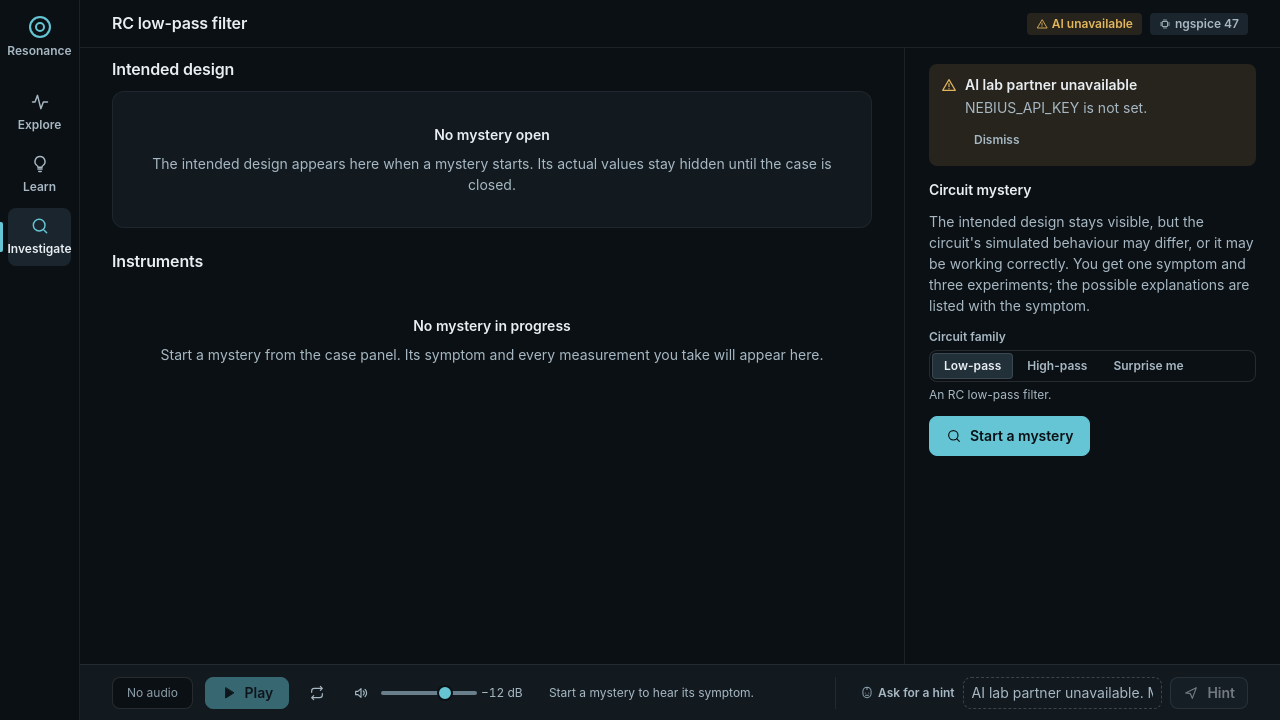
it: Investigate: family choice and the Guide-me prediction step › starts the chosen family (null for Surprise me) and compares a skippable prediction with the evidence
Check: the radio button labelled "Low-pass" is checked, box [932,353,1013,379]
What coordinates should you click on to do the following:
click the radio button labelled "Surprise me"
I would click on:
 (1149, 365)
Its box is [1114,358,1184,373].
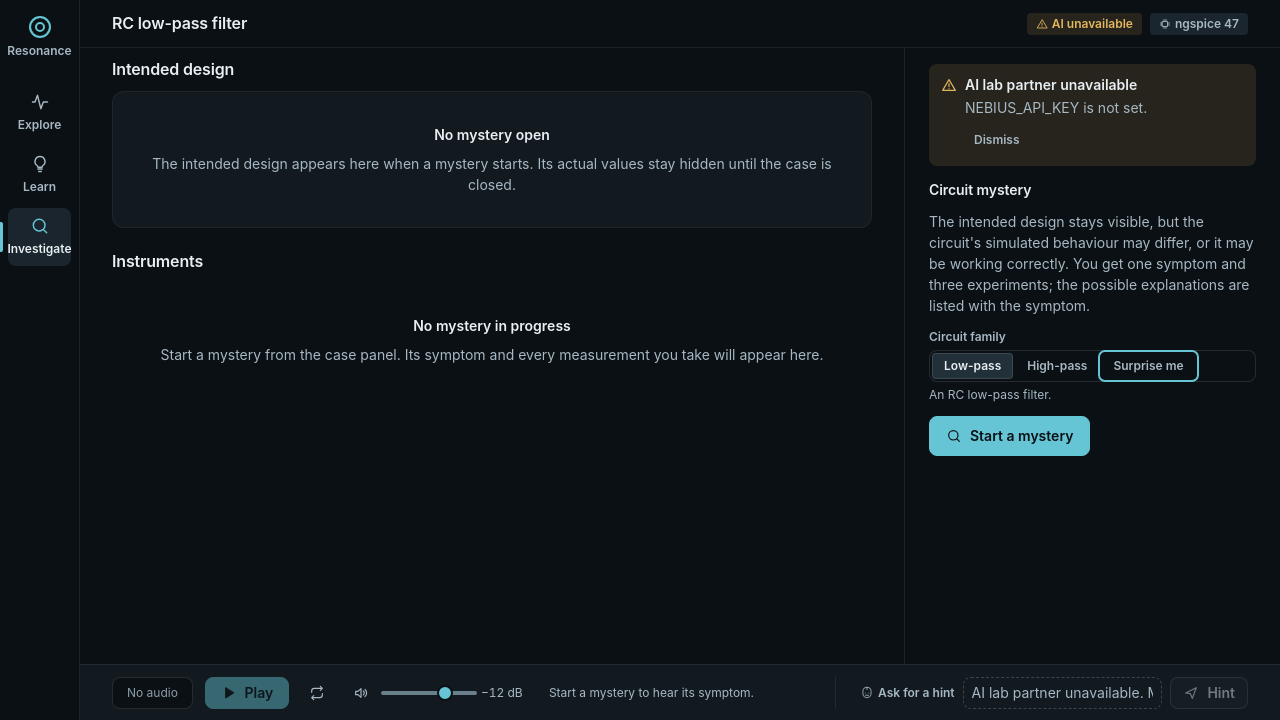
What coordinates should you click on to do the following:
click the button "Start a mystery"
I would click on:
 (1010, 436)
Its box is [929,416,1090,456].
(page scrolled)
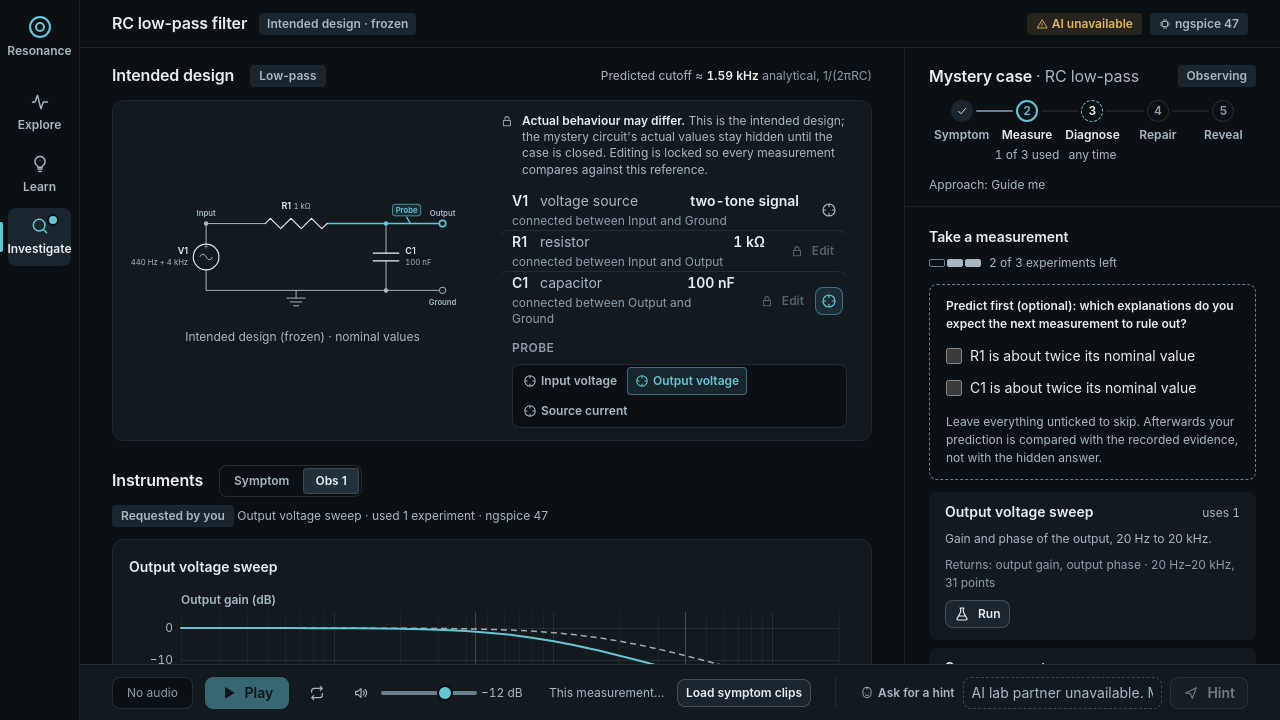
What coordinates should you click on to do the following:
click the checkbox labelled "R1 is about twice its nominal value"
I would click on:
 (954, 356)
Its box is [946,348,962,364].
(page scrolled)
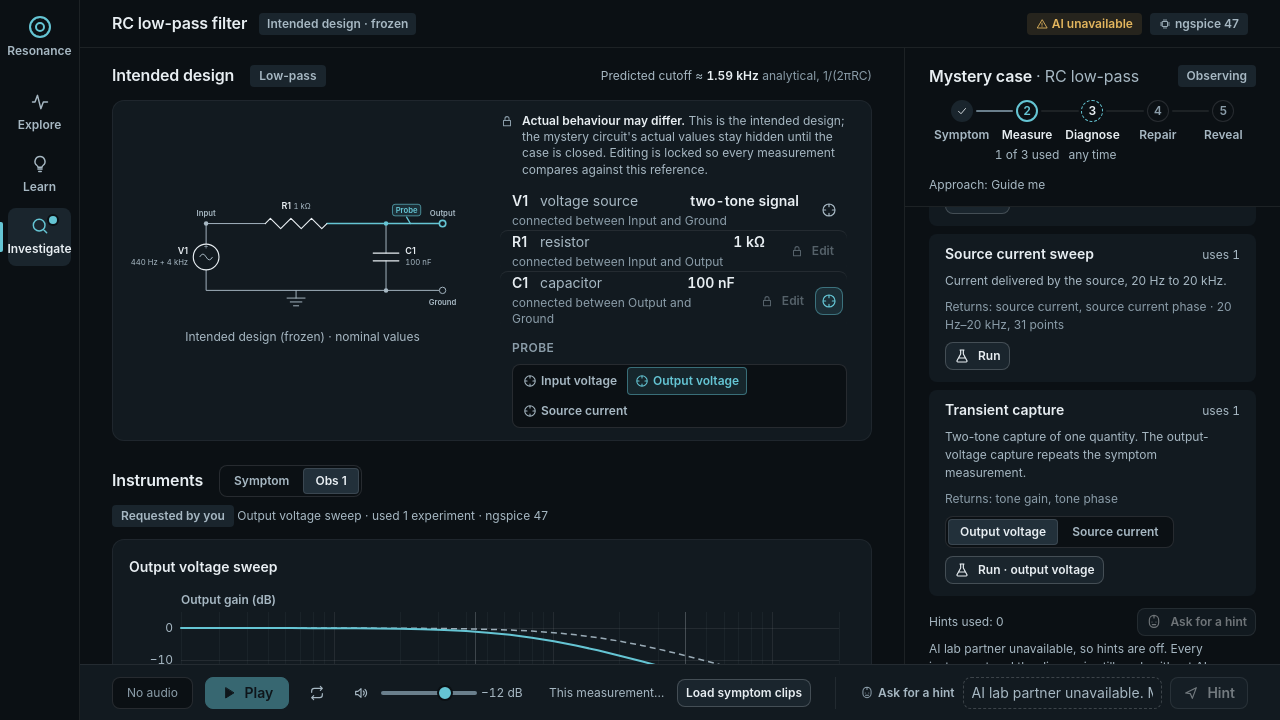
What coordinates should you click on to do the following:
click the button "Run"
I would click on:
 (977, 356)
Its box is [945,342,1010,370].
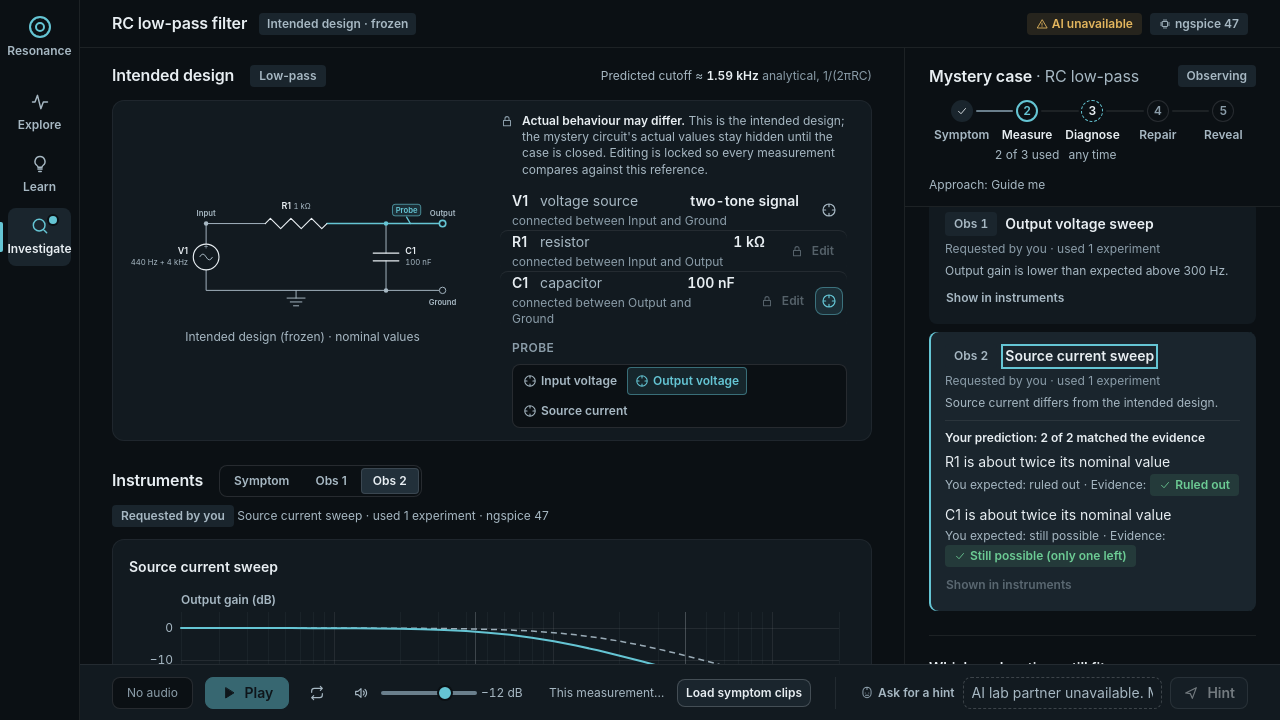
Check: the text "Your prediction: 2 of 2 matched the evidence" is shown, box [945,429,1240,447]
Check: the list named "compared with the recorded evidence" holds "R1 is about twice its nominal value.*You expected: ruled out.*Ruled out", box [945,451,1240,567]
Check: the list named "compared with the recorded evidence" holds "C1 is about twice its nominal value.*You expected: still possible.*Still possible \\(only one left\\)", box [945,451,1240,567]
